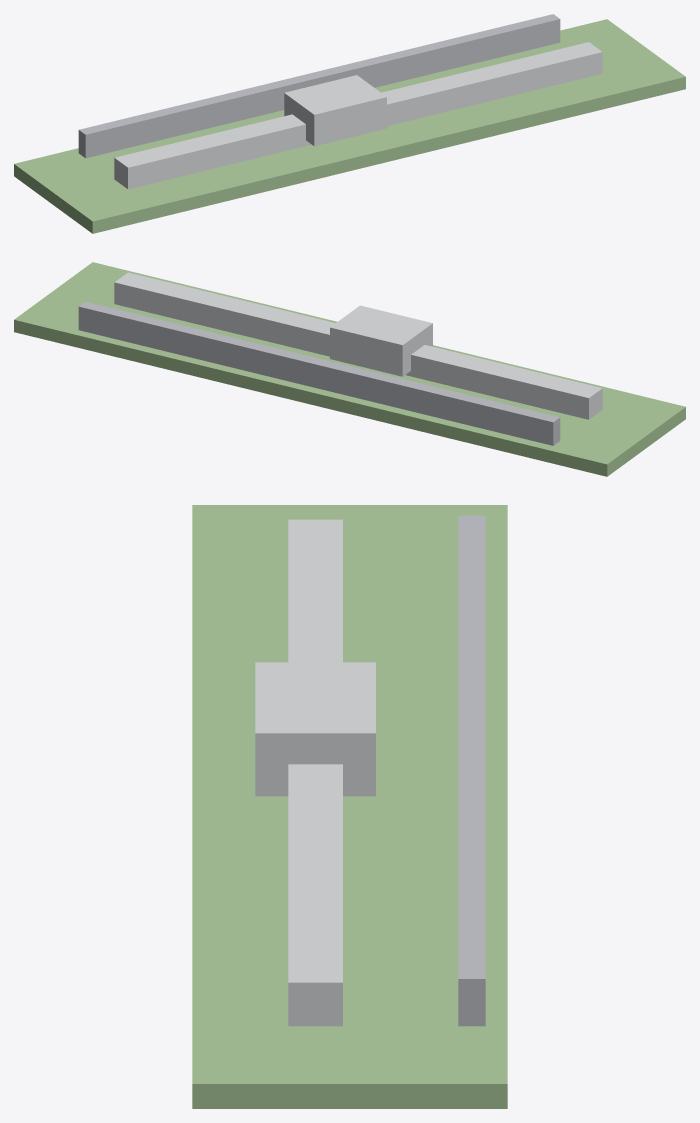
File: step-4.glb
3 views of the same model, one above another, from view 1: azimuth 30°, elevation 25°; view 2: azimuth 150°, elevation 25°; view 3: azimuth 270°, elevation 25° (orthographic). The views are drawn at different scales.
Parts seen in each view (by area): view 1: base-plate__mesh, rail__mesh, riser__mesh, block__mesh; view 2: base-plate__mesh, riser__mesh, rail__mesh, block__mesh; view 3: base-plate__mesh, rail__mesh, block__mesh, riser__mesh.
Part boxes in pixels (x1,y1,x2,y2): base-plate__mesh: (14,19,685,233); rail__mesh: (114,42,602,189); riser__mesh: (78,14,560,158); block__mesh: (284,75,386,146); base-plate__mesh: (14,262,685,476); riser__mesh: (78,301,560,445); rail__mesh: (114,272,602,419); block__mesh: (330,305,432,376); base-plate__mesh: (192,505,507,1108); rail__mesh: (288,519,342,1026); block__mesh: (255,662,375,796); riser__mesh: (458,515,485,1026).
Size of the model in its own units: 0.5 by 0.04 by 0.115.
